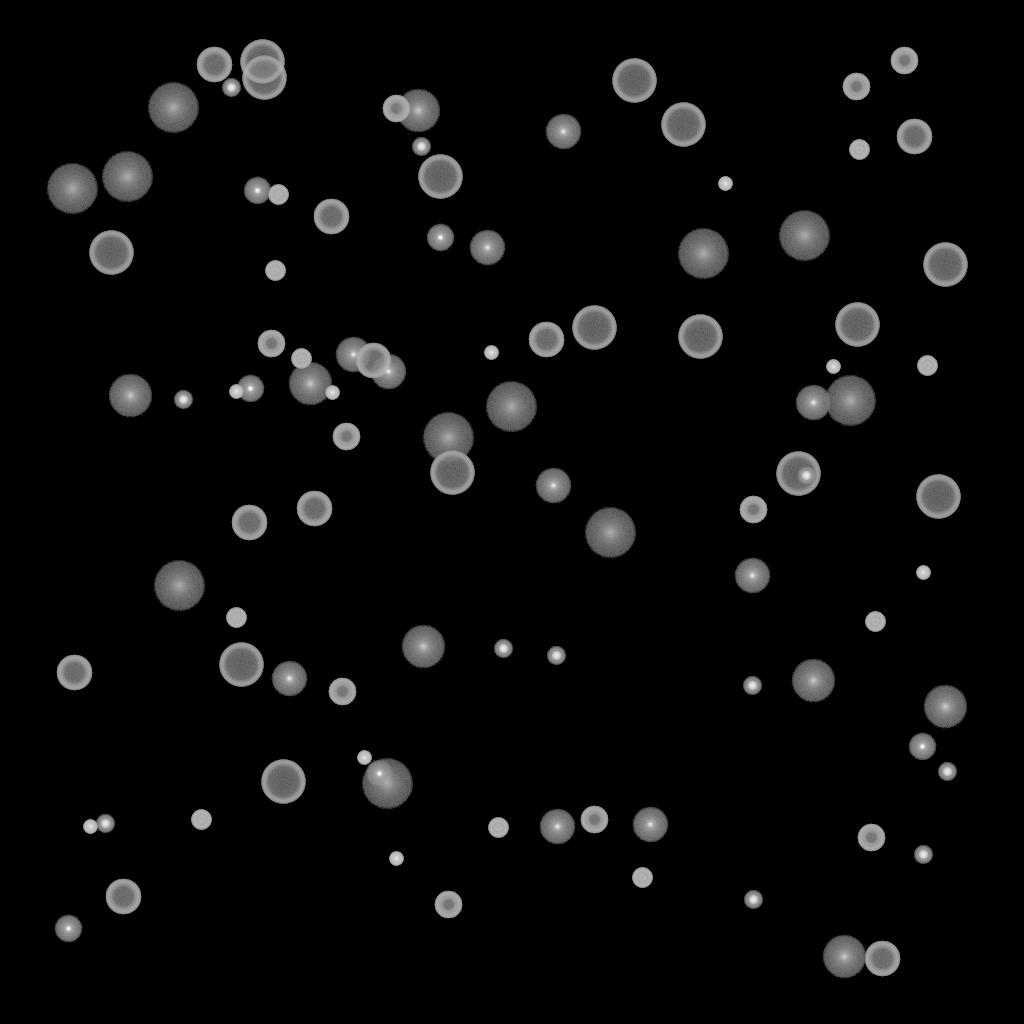depth:-10: (236, 375, 264, 403), (243, 177, 271, 205), (365, 760, 393, 788), (426, 224, 454, 252), (54, 915, 82, 943), (908, 733, 936, 761)
depth:-20: (412, 138, 430, 156), (96, 815, 114, 833), (222, 79, 240, 97), (914, 846, 932, 864), (494, 640, 512, 658), (547, 647, 565, 665), (174, 391, 192, 409), (797, 467, 815, 485), (743, 677, 761, 695), (938, 763, 956, 781), (744, 891, 762, 909)
depth:-30: (916, 566, 930, 580), (826, 360, 840, 374), (83, 820, 97, 834), (229, 385, 243, 399), (357, 751, 371, 765), (484, 346, 498, 360), (389, 852, 403, 866), (718, 177, 732, 191), (325, 386, 339, 400)
depth:-40: (191, 810, 211, 830), (488, 818, 508, 838), (917, 356, 937, 376), (265, 261, 285, 281), (291, 349, 311, 369), (226, 608, 246, 628), (849, 140, 869, 160), (865, 612, 885, 632), (632, 868, 652, 888), (268, 185, 288, 205)
depth:-50: (739, 496, 767, 524), (382, 95, 410, 123), (580, 806, 608, 834), (434, 891, 462, 919), (842, 73, 870, 101), (857, 824, 885, 852), (257, 330, 285, 358), (332, 423, 360, 451), (890, 47, 918, 75), (328, 678, 356, 706)
depth:-60: (864, 941, 900, 977), (528, 322, 564, 358), (896, 119, 932, 155), (231, 505, 267, 541), (296, 491, 332, 527), (196, 47, 232, 83), (56, 655, 92, 691), (105, 879, 141, 915), (355, 343, 391, 379), (313, 199, 349, 235)
depth:-70: (242, 56, 286, 100), (89, 231, 133, 275), (430, 451, 474, 495), (572, 306, 616, 350), (418, 155, 462, 199), (612, 59, 656, 103), (678, 315, 722, 359), (916, 475, 960, 519), (661, 103, 705, 147), (240, 40, 284, 84), (219, 643, 263, 687), (776, 452, 820, 496), (923, 243, 967, 287), (261, 760, 305, 804), (835, 303, 879, 347)
depth:0: (335, 337, 371, 373), (632, 807, 668, 843), (271, 661, 307, 697), (795, 385, 831, 421), (469, 230, 505, 266), (539, 809, 575, 845), (734, 558, 770, 594), (535, 468, 571, 504), (370, 354, 406, 390), (545, 114, 581, 150)
depth:10: (108, 374, 152, 418), (288, 362, 332, 406), (791, 659, 835, 703), (396, 89, 440, 133), (401, 625, 445, 669), (923, 685, 967, 729), (822, 935, 866, 979)
depth:20: (485, 382, 537, 432), (101, 152, 153, 202), (584, 508, 636, 558), (677, 229, 729, 279), (361, 759, 413, 809), (46, 164, 98, 214), (778, 211, 830, 261), (422, 413, 474, 463), (153, 561, 205, 611), (824, 376, 876, 426), (147, 83, 199, 133)
